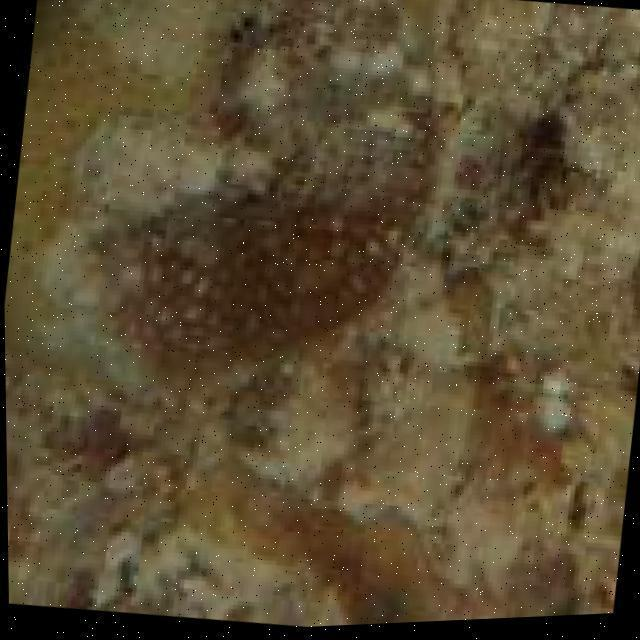Healthy Coral: (124, 170, 408, 380)
